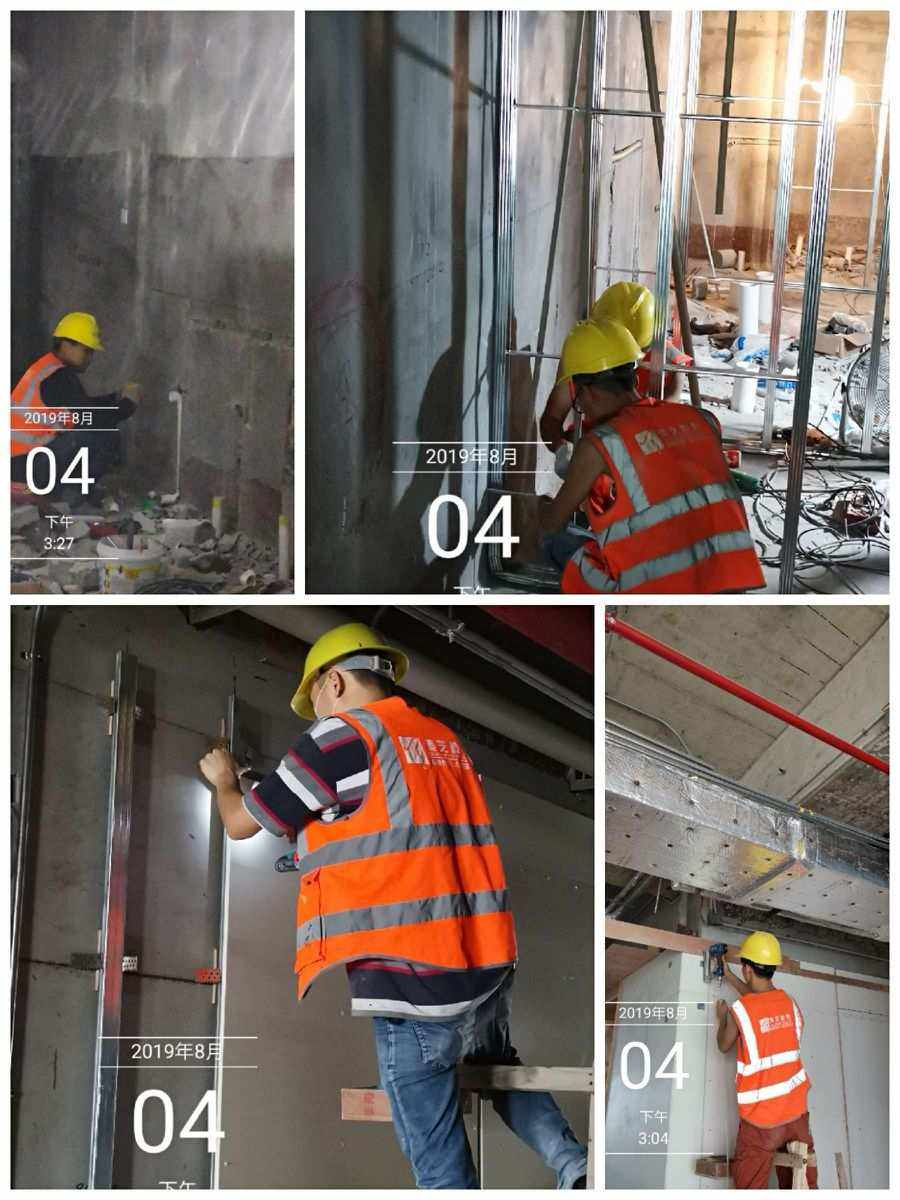person: (195, 622, 588, 1189), (553, 317, 769, 595), (714, 930, 820, 1190), (11, 307, 147, 502)
reflective_vest: (292, 694, 520, 1004), (560, 400, 768, 594), (729, 989, 812, 1129), (10, 353, 84, 458)
safety_helmet: (287, 622, 411, 721), (554, 317, 646, 421), (592, 280, 661, 346), (50, 309, 106, 369), (733, 930, 782, 991)
